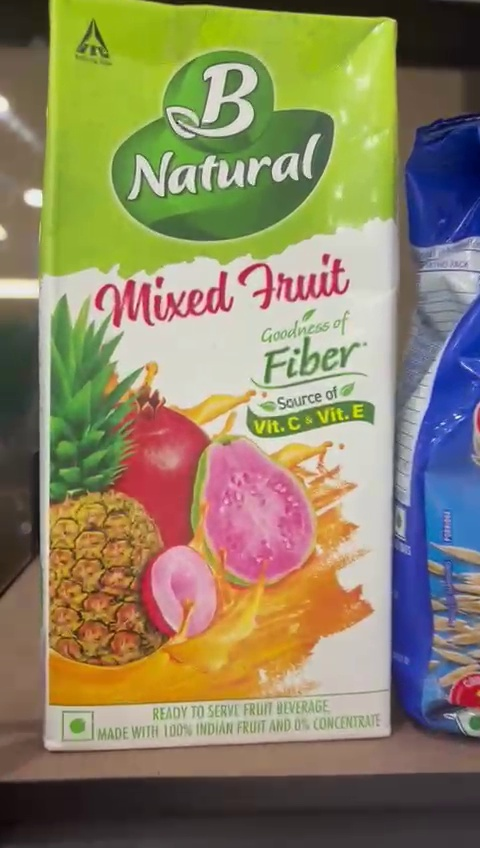Mixed Fruit: (41, 1, 394, 741)
